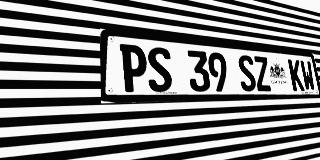3: (187, 50, 211, 92)
9: (207, 52, 229, 92)
K: (288, 59, 305, 91)
P: (120, 44, 148, 92)
S: (147, 46, 173, 92), (237, 54, 257, 91)
W: (300, 60, 316, 91)
Z: (253, 56, 272, 91)
